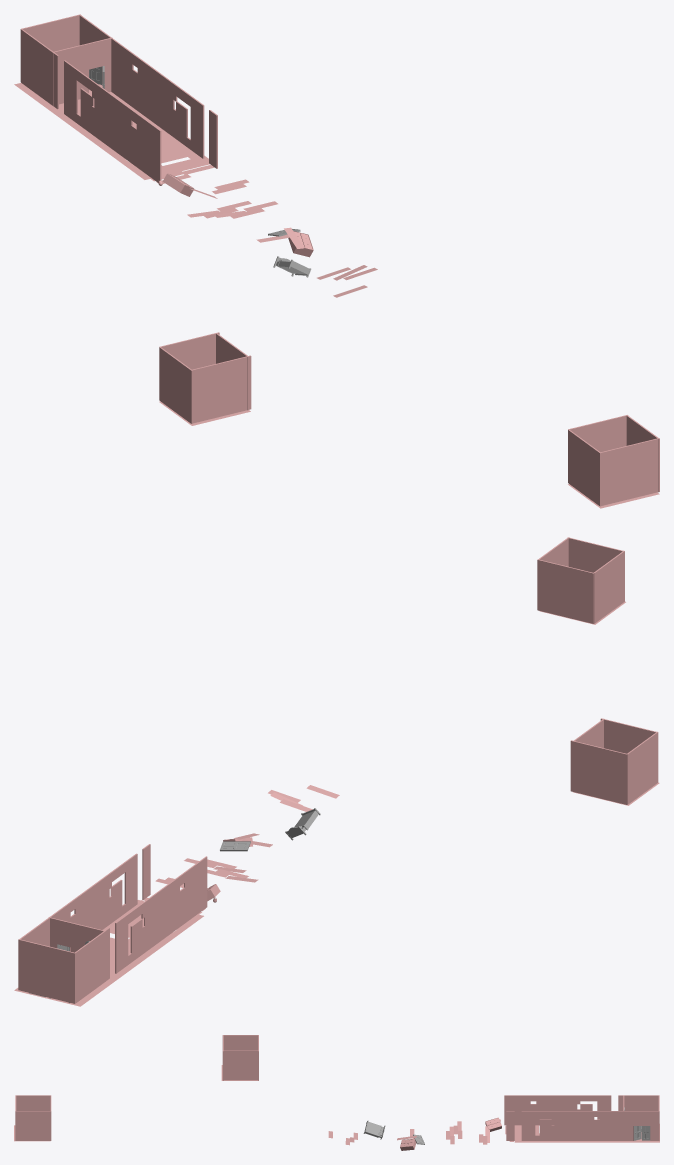
File: maptest4.fbx
3 views of the same model, one above another, from view 1: azimuth 30°, elevation 25°; view 2: azimuth 150°, elevation 25°; view 3: azimuth 270°, elevation 25° (orthographic). The views are drawn at different scales.
Parts seen in each view (by area): view 1: pCube19, pCube14, pCube13, pCube9, pPlane2, pCube10, pCube7, pCube2, pCube5, pCube3, pCube6, pCube11; view 2: pCube19, pCube14, pCube3, pCube11, pCube6, pCube10, pCube2, pCube7, pPlane2, pCube9, pCube13, pCube5; view 3: pCube14, pCube19, pCube12, pCube8, pCube4, pCube10, pCube7, pCube2, pPlane2, BED_FRAME1:CUBE2.
Boxes of the visible parts, x1,y1,x2,y2 form: pCube19: [53, 52, 161, 182]; pCube14: [110, 37, 217, 168]; pCube13: [192, 355, 251, 423]; pCube9: [600, 438, 659, 505]; pPlane2: [14, 83, 209, 179]; pCube10: [159, 347, 192, 423]; pCube7: [568, 429, 601, 506]; pCube2: [21, 29, 53, 105]; pCube5: [53, 37, 112, 104]; pCube3: [20, 14, 80, 81]; pCube6: [568, 415, 627, 482]; pCube11: [159, 332, 219, 399]; pCube19: [105, 856, 207, 980]; pCube14: [49, 844, 150, 951]; pCube3: [18, 939, 75, 1003]; pCube11: [570, 740, 627, 804]; pCube6: [537, 559, 594, 623]; pCube10: [627, 731, 658, 804]; pCube2: [75, 930, 105, 1003]; pCube7: [594, 551, 624, 623]; pPlane2: [14, 900, 203, 1006]; pCube9: [567, 537, 623, 572]; pCube13: [600, 718, 656, 753]; pCube5: [48, 917, 104, 952]; pCube14: [506, 1111, 625, 1140]; pCube19: [504, 1095, 626, 1125]; pCube12: [222, 1050, 258, 1080]; pCube8: [15, 1111, 50, 1140]; pCube4: [624, 1111, 658, 1140]; pCube10: [222, 1035, 258, 1050]; pCube7: [16, 1095, 50, 1110]; pCube2: [623, 1095, 658, 1110]; pPlane2: [514, 1124, 659, 1142]; BED_FRAME1:CUBE2: [363, 1120, 385, 1139].
Size of the model in its own units: 212 by 49.19 by 715.
